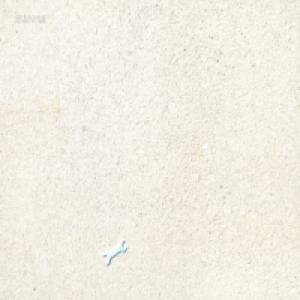Wrench: (103, 238, 126, 267)
